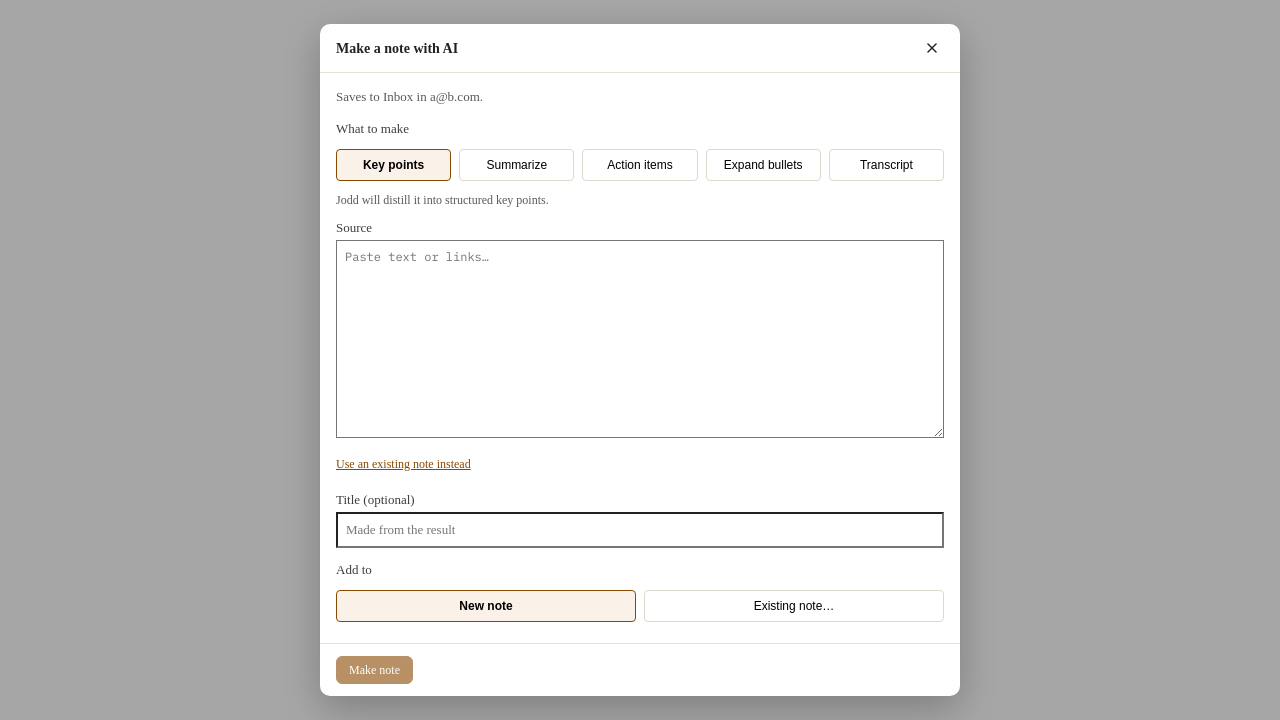
Test: the make-a-note dialog layout › says what the chosen option makes, on one line under the choice
Check: the text with class "option-line" reads "Jodd will distill it into structured key points.", box [336, 193, 549, 207]
Click the button "Summarize" at (517, 165), box [459, 149, 574, 181]
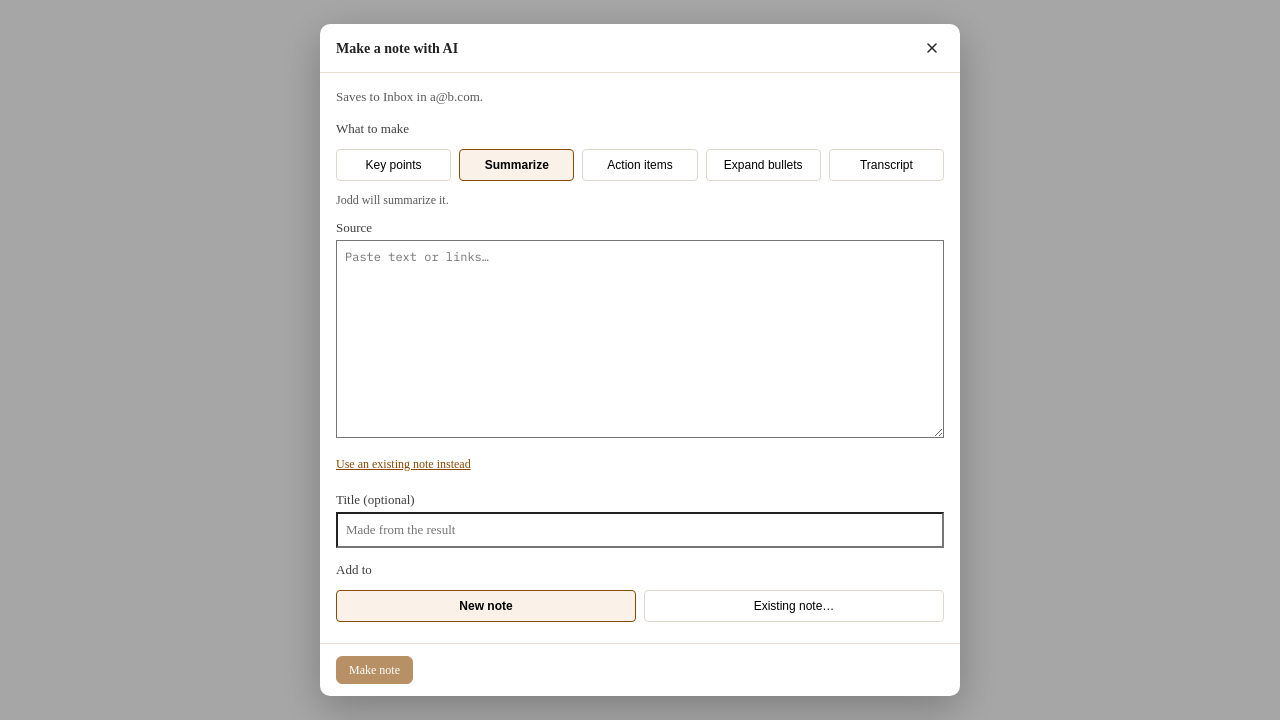
Check: the text with class "option-line" reads "Jodd will summarize it.", box [336, 193, 449, 207]
